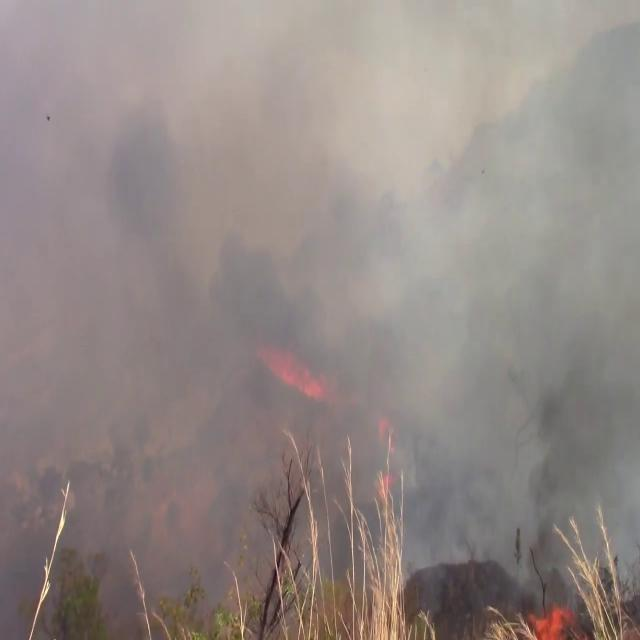Fire: (262, 340, 328, 403), (504, 594, 576, 640)
Smoke: (0, 1, 640, 604)
